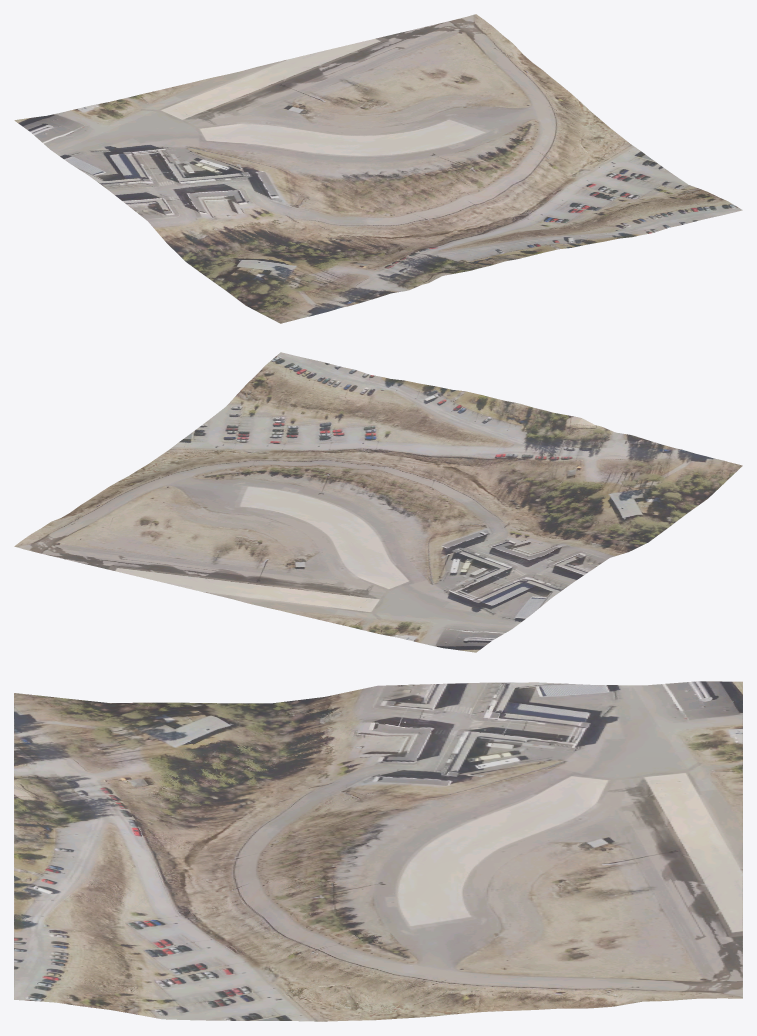
Rendered from CM_Terrain_24492506_6815903.fbx.
3 renders of one model, top to bottom at view 1: azimuth 30°, elevation 25°; view 2: azimuth 150°, elevation 25°; view 3: azimuth 270°, elevation 25°, orthographic. The views are drawn at different scales.
Parts seen in each view (by area): view 1: CM_Terrain_24492506_6815903_LOD0; view 2: CM_Terrain_24492506_6815903_LOD0; view 3: CM_Terrain_24492506_6815903_LOD0.
Boxes of the visible parts, x1,y1,x2,y2 form: CM_Terrain_24492506_6815903_LOD0: (14, 14, 742, 323); CM_Terrain_24492506_6815903_LOD0: (14, 352, 742, 652); CM_Terrain_24492506_6815903_LOD0: (14, 681, 742, 1021).
Size of what is drawn, in the model's own units: 205 by 10 by 205.
